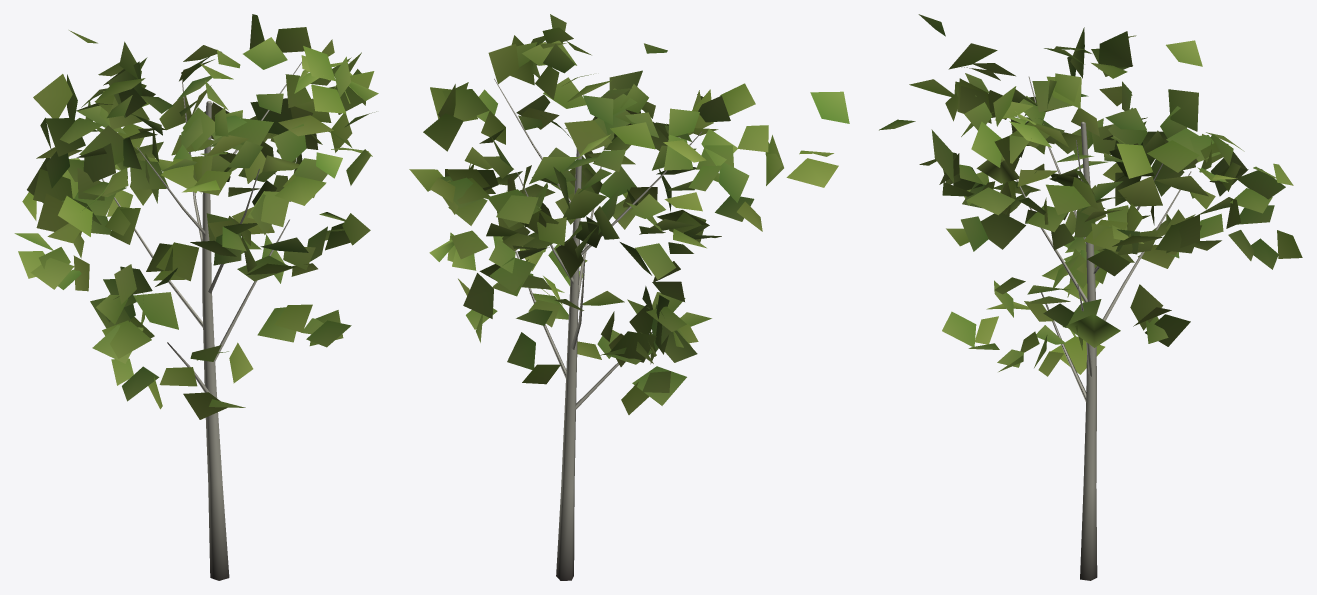
The model's file is birch-a.lod2.glb.
3 views of the same model, side by side, from view 1: azimuth 30°, elevation 25°; view 2: azimuth 150°, elevation 25°; view 3: azimuth 270°, elevation 25° (orthographic). The views are drawn at different scales.
Bounding box in the file's own units: 7.55 × 10.74 × 8.06.
